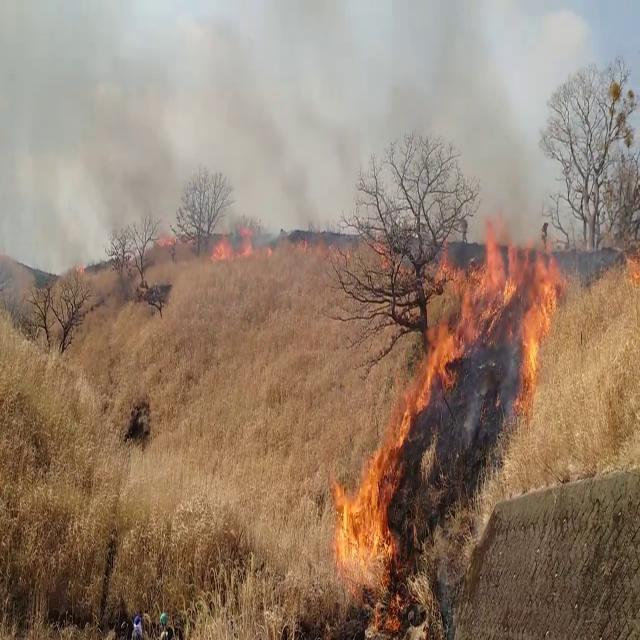Fire: (414, 215, 564, 409), (332, 447, 396, 622), (394, 326, 451, 454), (207, 218, 259, 264)
Smoke: (328, 3, 562, 234)
